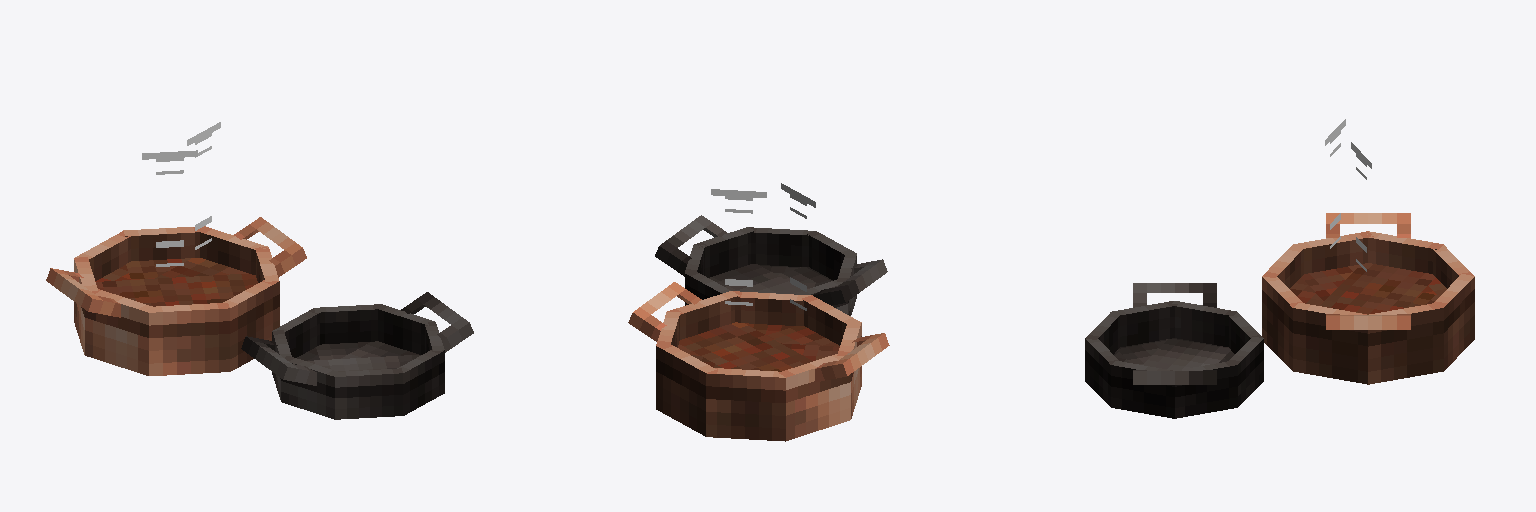
The picture shows the model from 3 angles: view 1: azimuth 30°, elevation 25°; view 2: azimuth 150°, elevation 25°; view 3: azimuth 270°, elevation 25°; orthographic projection.
Parts seen in each view (by area): view 1: cube; view 2: cube; view 3: cube.
Boxes of the visible parts, box(x1,y1,x2,y2) form: cube: box(46, 122, 473, 419); cube: box(628, 183, 889, 441); cube: box(1085, 119, 1474, 418).
Bounding box in the file's own units: 0.7437 × 0.4969 × 0.8671.
4 materials, 4 textured.